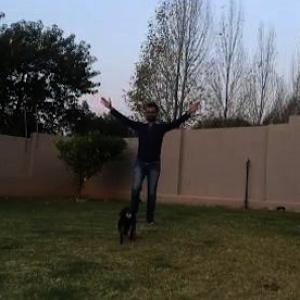takeoff: (100, 100, 197, 221)
